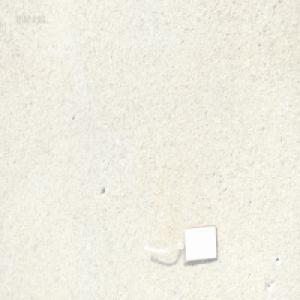LuggageTag: (140, 223, 217, 265)
